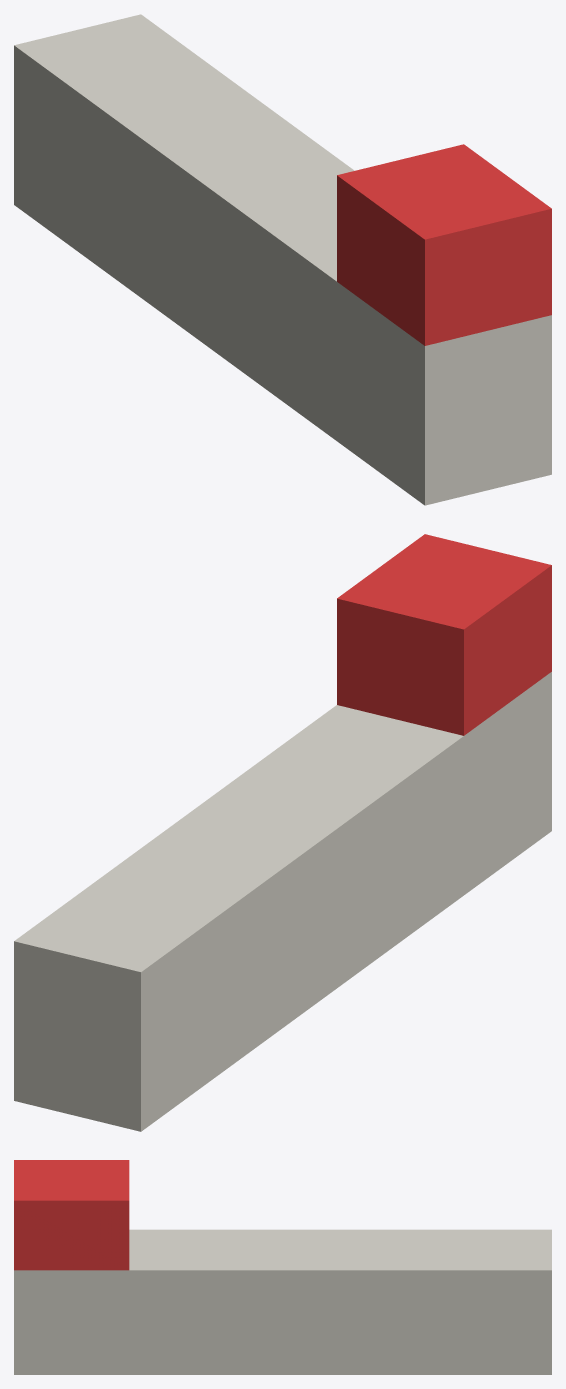
The model's file is spike-arrow.glb.
The picture shows the model from 3 angles, top to bottom: view 1: azimuth 30°, elevation 25°; view 2: azimuth 150°, elevation 25°; view 3: azimuth 270°, elevation 25°; orthographic projection. The views are drawn at different scales.
Parts seen in each view (by area): view 1: arrow; view 2: arrow; view 3: arrow.
Boxes of the visible parts, <box> form: arrow: <box>14,14,551,505</box>; arrow: <box>14,534,551,1131</box>; arrow: <box>14,1160,551,1374</box>.
Size of the model in its own units: 2.5 by 5 by 14.
